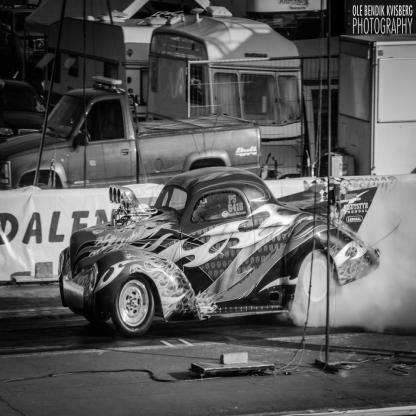car: (36, 135, 387, 355)
truck: (1, 55, 268, 191)
